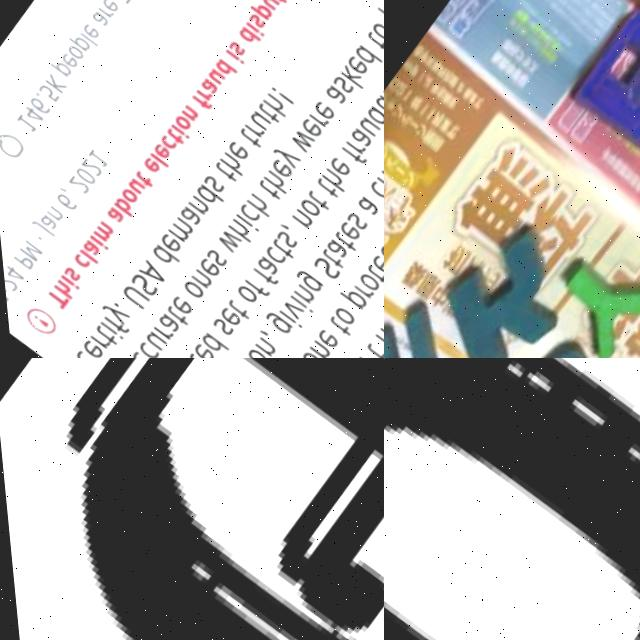0: (67, 166, 92, 188)
1: (80, 147, 106, 172), (10, 112, 35, 135)
2: (75, 158, 99, 180), (62, 176, 84, 196), (0, 271, 11, 292)
4: (16, 104, 41, 127), (0, 261, 18, 284)
5: (32, 82, 58, 106)
6: (23, 94, 49, 118), (48, 191, 72, 214)
A: (602, 0, 640, 58)
B: (561, 9, 640, 165)
G: (0, 358, 384, 640)
K: (401, 204, 596, 358)
M: (384, 285, 484, 358)
O: (384, 358, 640, 640)
Y: (525, 237, 640, 358)
